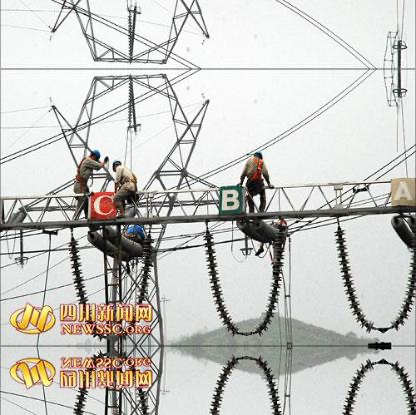Safety Helmet: (84, 145, 105, 168), (245, 147, 268, 164)
